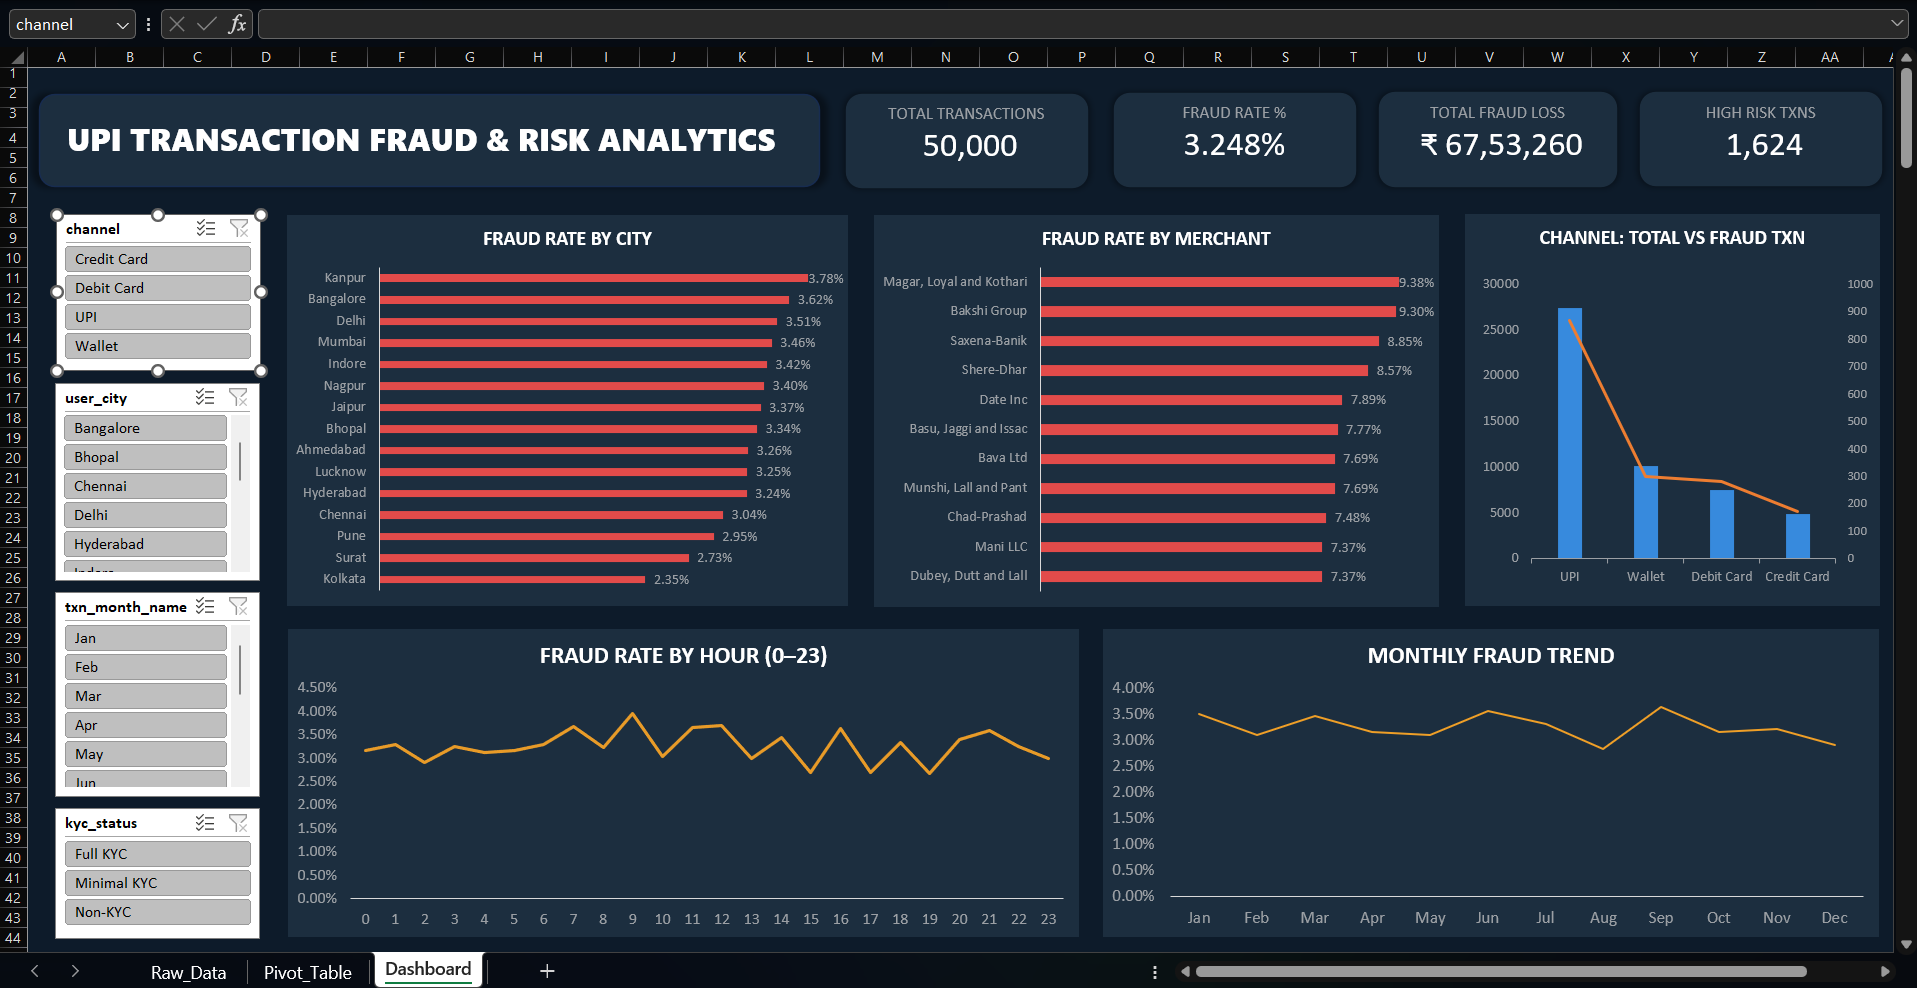

Layout of this report page (visuals, bound fields, positions):
{"tool":"powerbi","page":{"name":"EXECUTIVE OVERVIEW","canvas":[1280,720],"ordinal":0},"visuals":[{"type":"cardVisual","fields":{"Data":["Mesures.Fraud Rate %"]},"box":[809.5,15.9,226.2,110.1],"z":0},{"type":"cardVisual","fields":{"Data":["Mesures.Failure Rate %"]},"box":[278.8,19.6,236,110.1],"z":1000},{"type":"lineChart","title":"Monthly Fraud Trend","fields":{"Y":["Mesures.Fraud Rate %"],"Category":["Transactions.Month Name"]},"box":[18.3,149.2,496.5,266.6],"z":2000},{"type":"clusteredBarChart","title":"Fraud Rate by City","fields":{"Category":["Users.user_city"],"Y":["Mesures.Fraud Rate %"]},"box":[541.7,149.2,494,266.6],"z":3000},{"type":"donutChart","title":"Transaction Status Distribution","fields":{"Category":["Transactions.status"],"Y":["Count(Transactions.txn_id)"]},"box":[18.3,432.9,496.5,277.6],"z":4000},{"type":"clusteredColumnChart","title":"Fraud Rate by Channel","fields":{"Category":["Transactions.channel"],"Y":["Mesures.Fraud Rate %"]},"box":[541.7,432.9,494,277.6],"z":5000},{"type":"slicer","fields":{"Values":["Transactions.channel"]},"box":[1049.2,244.6,209.1,156.5],"z":6000},{"type":"slicer","fields":{"Values":["Users.user_city"]},"box":[1048,431.7,209.1,278.8],"z":7000},{"type":"slicer","fields":{"Values":["Transactions.timestamp"]},"box":[1048,15.9,209.1,210.3],"z":8000},{"type":"cardVisual","fields":{"Data":["Mesures.Total Fraud Loss Display"]},"box":[529.5,19.6,259.2,106.4],"z":9000},{"type":"cardVisual","fields":{"Data":["Mesures.Total Transactions Display"]},"box":[18.3,19.6,248.2,110.1],"z":10000}]}

Visuals, with their boxes on the page's 1280x720 design canvas (x1, y1, x2, y2). These are canvas units, not pixel positions in the 1917x988 screenshot, which may show the page scaled, cropped or inside an application window:
cardVisual - Mesures.Fraud Rate %: bbox(810, 16, 1036, 126)
cardVisual - Mesures.Failure Rate %: bbox(279, 20, 515, 130)
"Monthly Fraud Trend" lineChart: bbox(18, 149, 515, 416)
"Fraud Rate by City" clusteredBarChart: bbox(542, 149, 1036, 416)
"Transaction Status Distribution" donutChart: bbox(18, 433, 515, 710)
"Fraud Rate by Channel" clusteredColumnChart: bbox(542, 433, 1036, 710)
slicer - Transactions.channel: bbox(1049, 245, 1258, 401)
slicer - Users.user_city: bbox(1048, 432, 1257, 710)
slicer - Transactions.timestamp: bbox(1048, 16, 1257, 226)
cardVisual - Mesures.Total Fraud Loss Display: bbox(530, 20, 789, 126)
cardVisual - Mesures.Total Transactions Display: bbox(18, 20, 266, 130)
